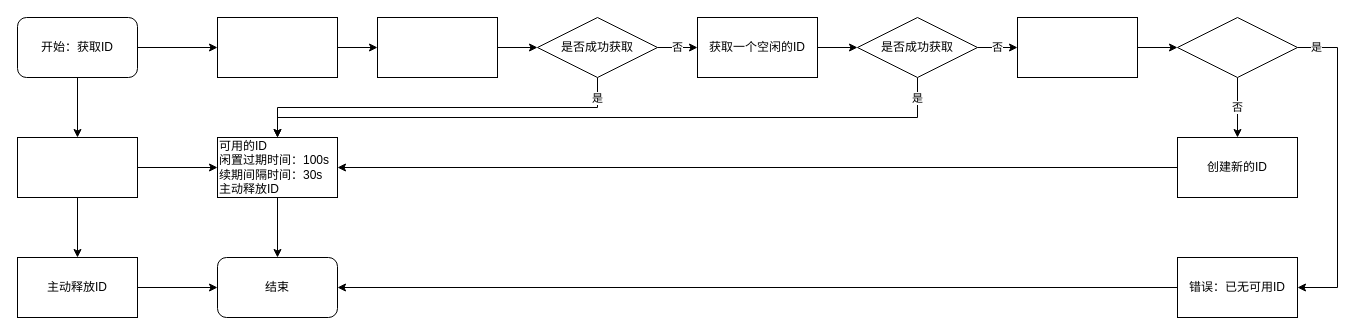
The diagram is 1363 pixels wide and 335 high, and some of its shapes have lost their labels. Here are the shapes that lost their labels. From the top down, the centre of each, then its label:
point (277, 47): DB 行级锁 Key: instance_id
point (437, 47): 获取一个已释放的ID
point (1077, 47): 实例化新的ID
point (1237, 47): 是否达到ID上限
point (77, 167): 主动续期ID
